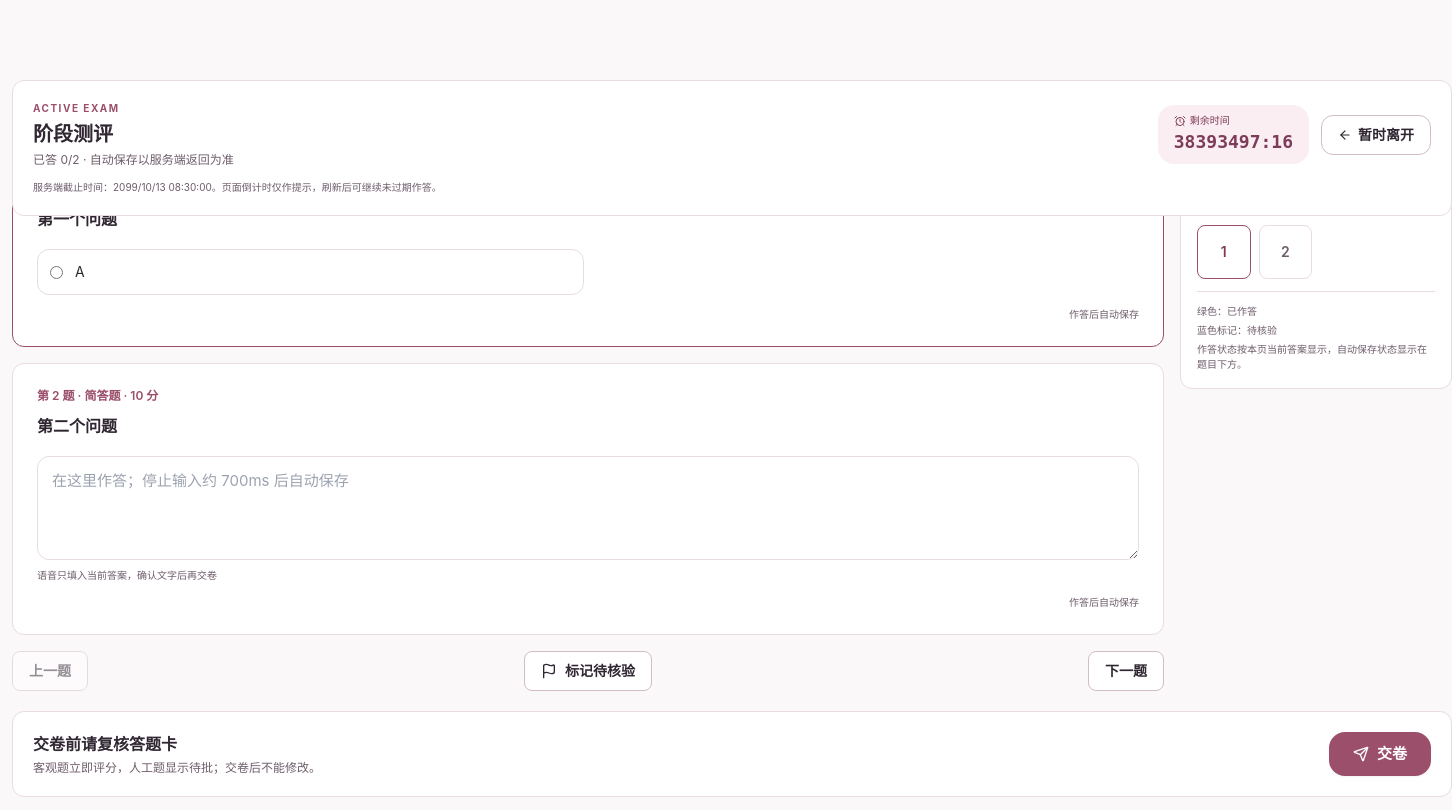
Test case: ExamRunner interactions › jumps from the answer grid and keeps a review mark visible
Step 1. Click the button named "第 2 题" → {"x": 1285, "y": 252}, box [1258, 225, 1312, 278]
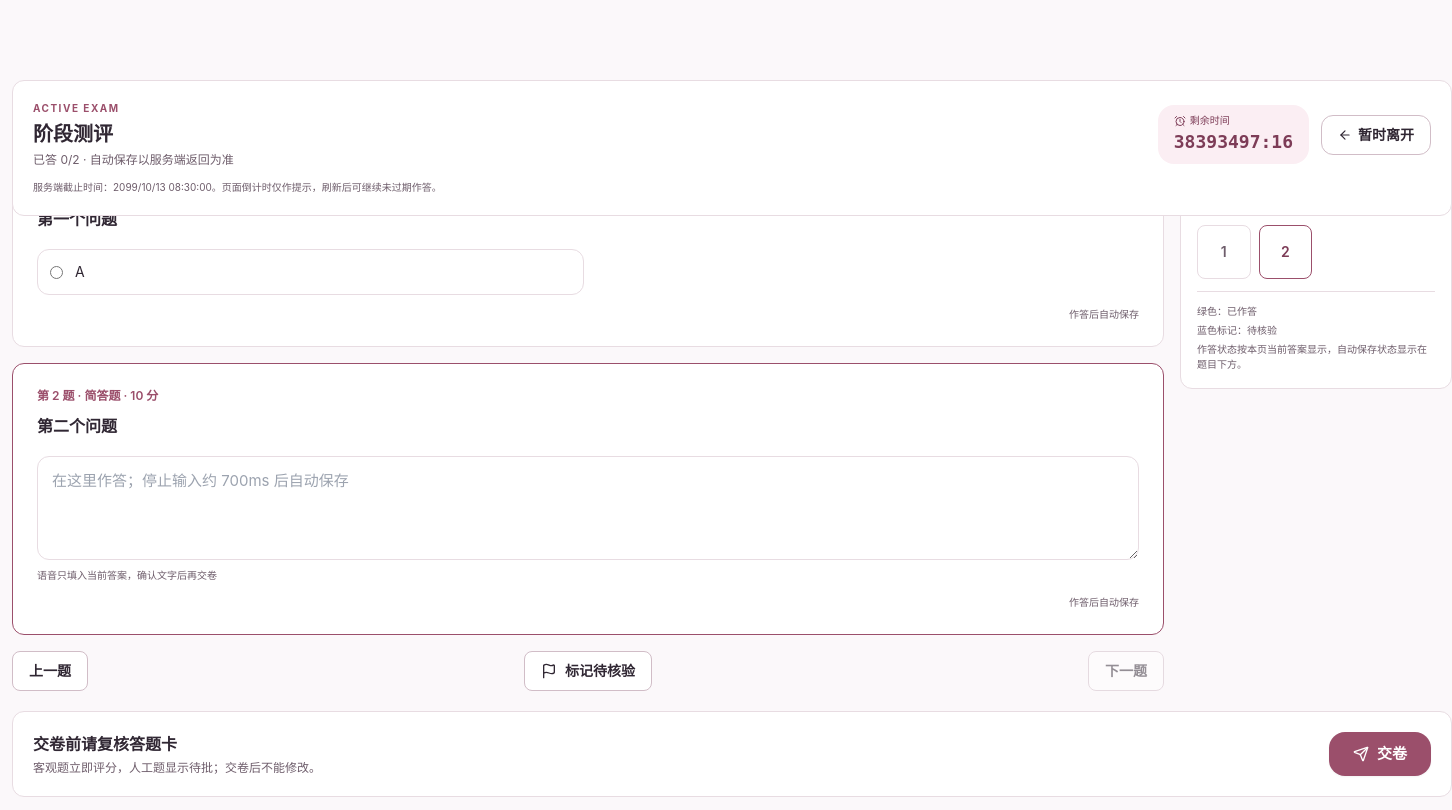
Expected: the heading "第二个问题" is shown, [37, 416, 117, 436]
Step 2. Click the button with aria-label "标记第 2 题待核验" → {"x": 588, "y": 671}, box [524, 651, 652, 691]
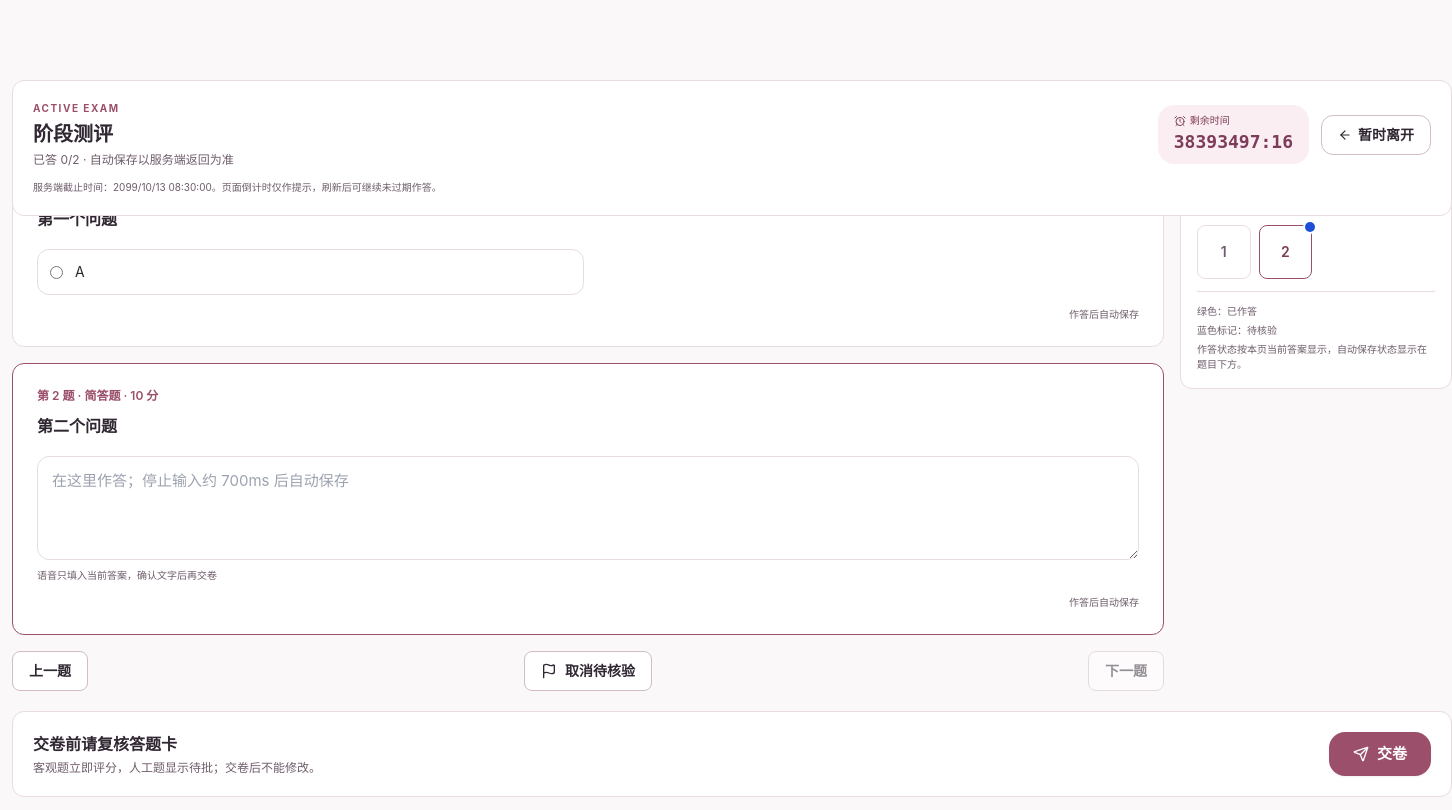
Expected: the button named "第 2 题，未作答，待核验" is shown, [1258, 225, 1312, 278]
